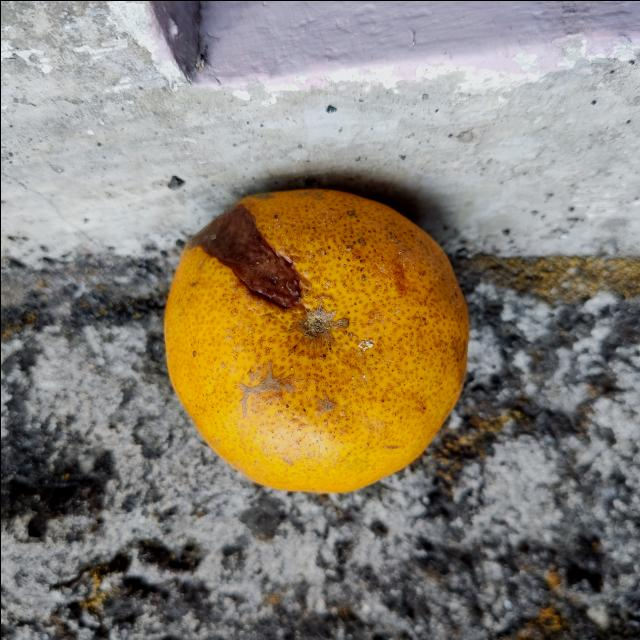orange: (160, 188, 467, 492)
